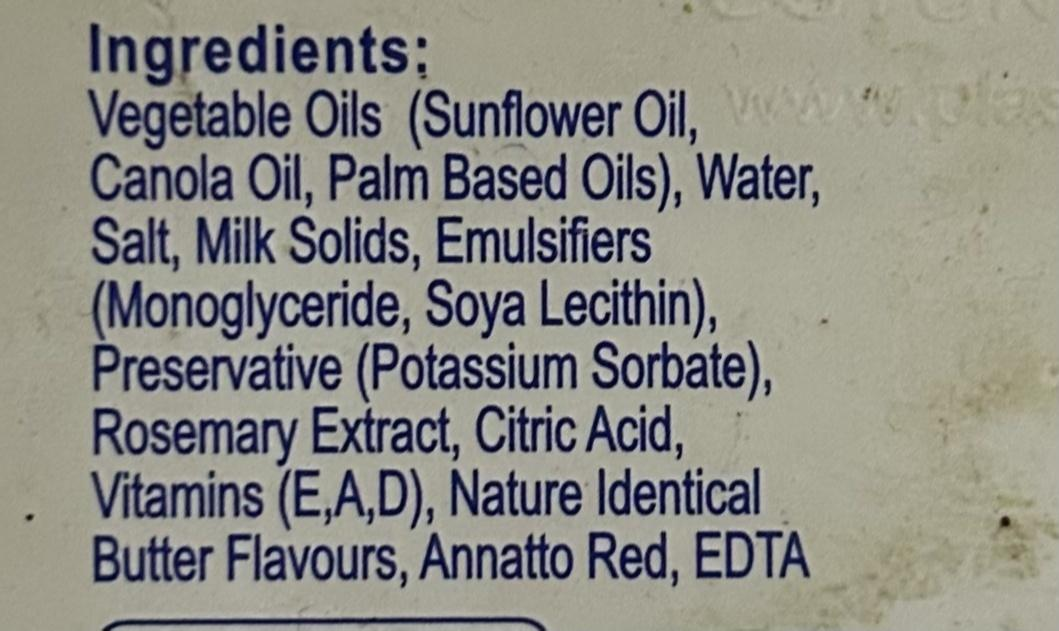ingredients: (75, 16, 870, 612)
